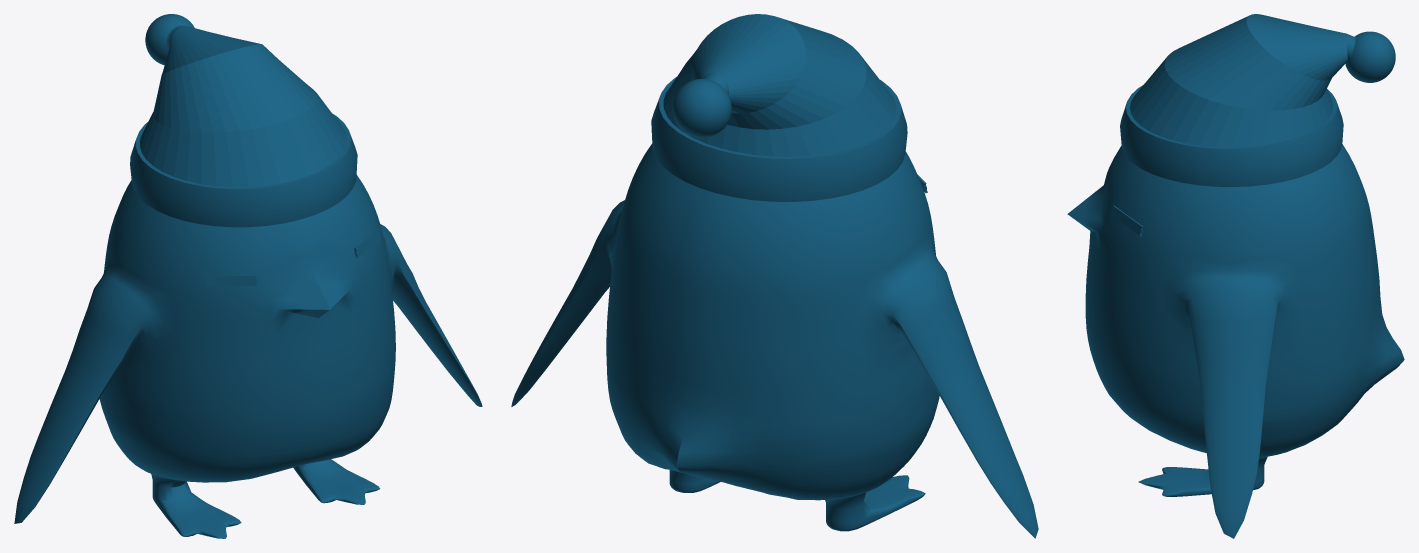
File: penguin_blue_idle_22f.fbx
The picture shows the model from 3 angles, left to right: view 1: azimuth 30°, elevation 25°; view 2: azimuth 150°, elevation 25°; view 3: azimuth 270°, elevation 25°; orthographic projection. The views are drawn at different scales.
Visible parts, largest first — view 1: ppp_22, bousi, ai; view 2: ppp_22, bousi; view 3: ppp_22, bousi.
Part boxes in pixels (x1,y1,x2,y2): ppp_22: (14, 175, 482, 538); bousi: (130, 14, 357, 227); ai: (204, 231, 380, 286); ppp_22: (511, 143, 1038, 538); bousi: (651, 14, 907, 201); ppp_22: (1067, 144, 1404, 538); bousi: (1120, 14, 1395, 186).
Bounding box in the file's own units: 22.46 × 20.11 × 14.37.
1 material, 1 textured.
